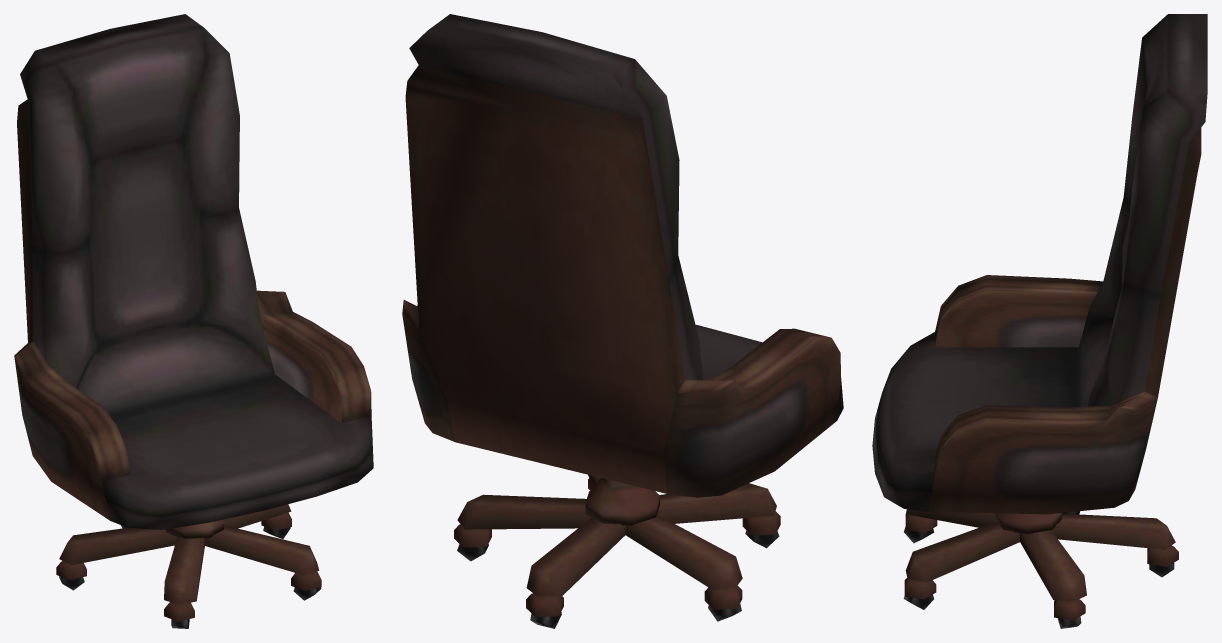
File: int_prs_chairS.dae
3 renders of one model, left to right at view 1: azimuth 30°, elevation 25°; view 2: azimuth 150°, elevation 25°; view 3: azimuth 270°, elevation 25°, orthographic. The views are drawn at different scales.
Visible parts, largest first — view 1: int_prs_chairS; view 2: int_prs_chairS; view 3: int_prs_chairS.
Part boxes in pixels (x1,y1,x2,y2): int_prs_chairS: [14, 14, 373, 628]; int_prs_chairS: [402, 14, 843, 628]; int_prs_chairS: [872, 14, 1207, 628].
Size of the model in its own units: 30.4 by 50.88 by 29.49.
1 material, 1 textured.
